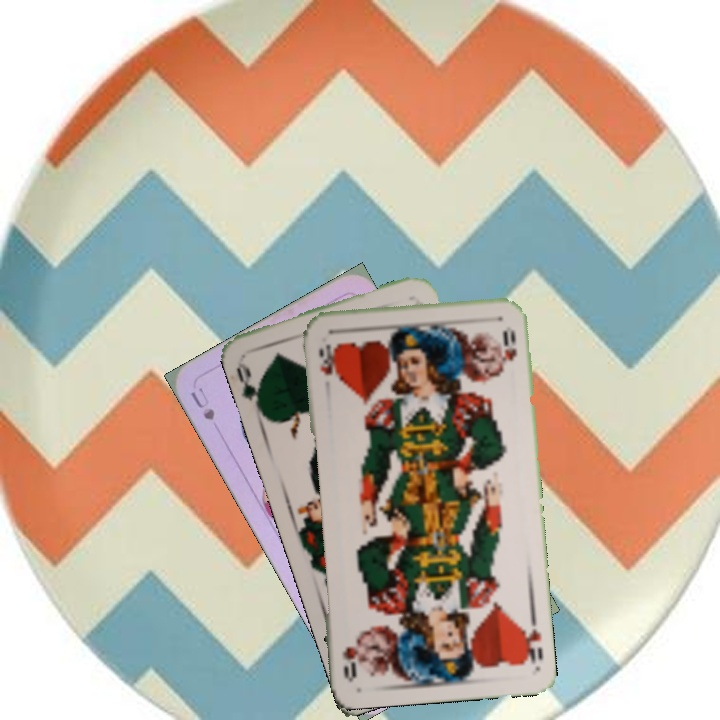GO: (232, 358, 264, 414)
HO: (517, 609, 545, 667), (314, 340, 338, 380)
SU: (186, 383, 218, 423)
